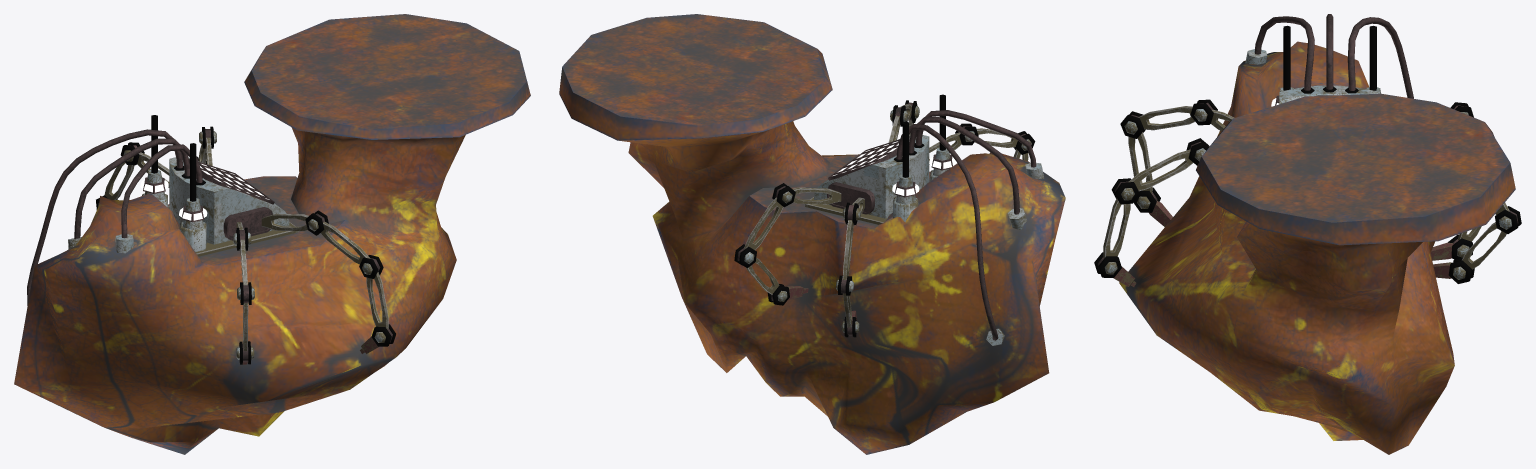
Rendered from Installation1.fbx.
3 renders of one model, left to right at view 1: azimuth 30°, elevation 25°; view 2: azimuth 150°, elevation 25°; view 3: azimuth 270°, elevation 25°, orthographic. The views are drawn at different scales.
Parts seen in each view (by area): view 1: Installation1; view 2: Installation1; view 3: Installation1.
Part boxes in pixels (box(x1,y1,x2,y2)): Installation1: box(14, 14, 530, 454); Installation1: box(559, 14, 1065, 454); Installation1: box(1094, 14, 1521, 454).
Bounding box in the file's own units: 929 × 630 × 623.
